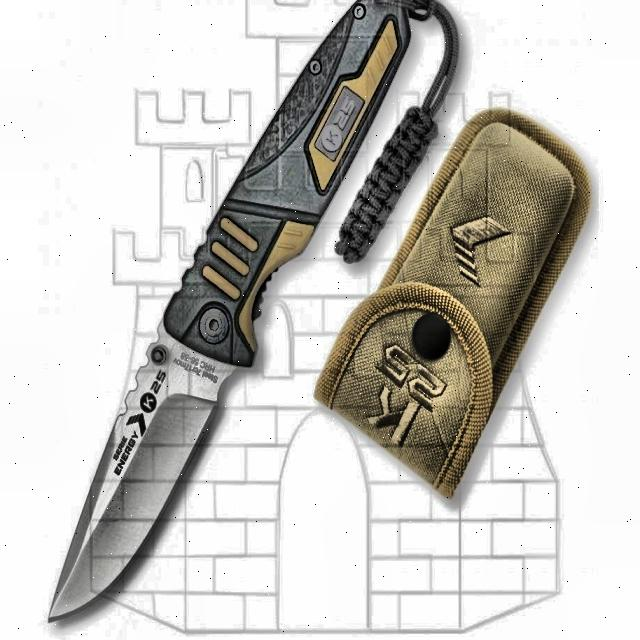knife: (53, 0, 412, 621)
